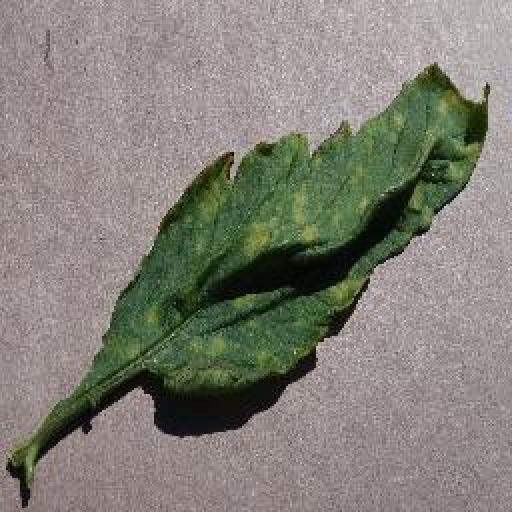disease_tomato: (102, 58, 488, 394)
